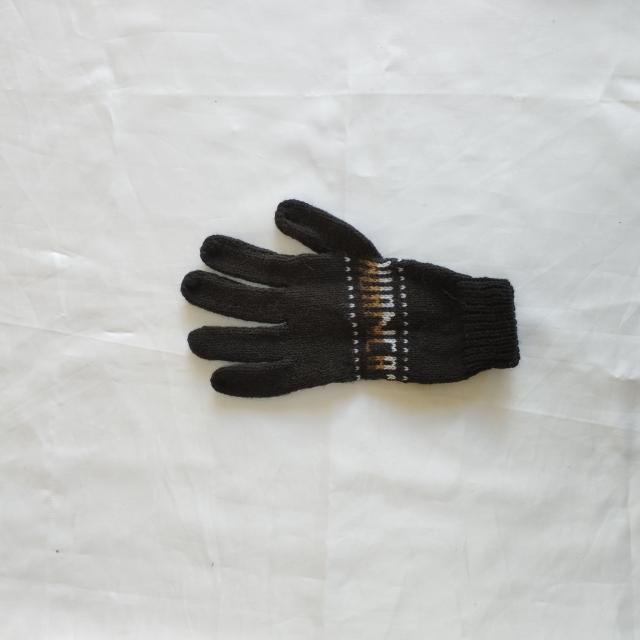Guante: (180, 198, 521, 400)
